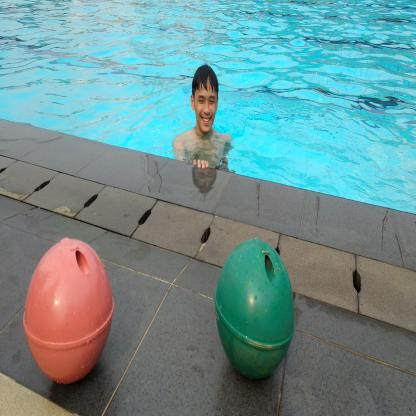green_buoy: (212, 235, 297, 390)
red_buoy: (21, 230, 116, 390)
